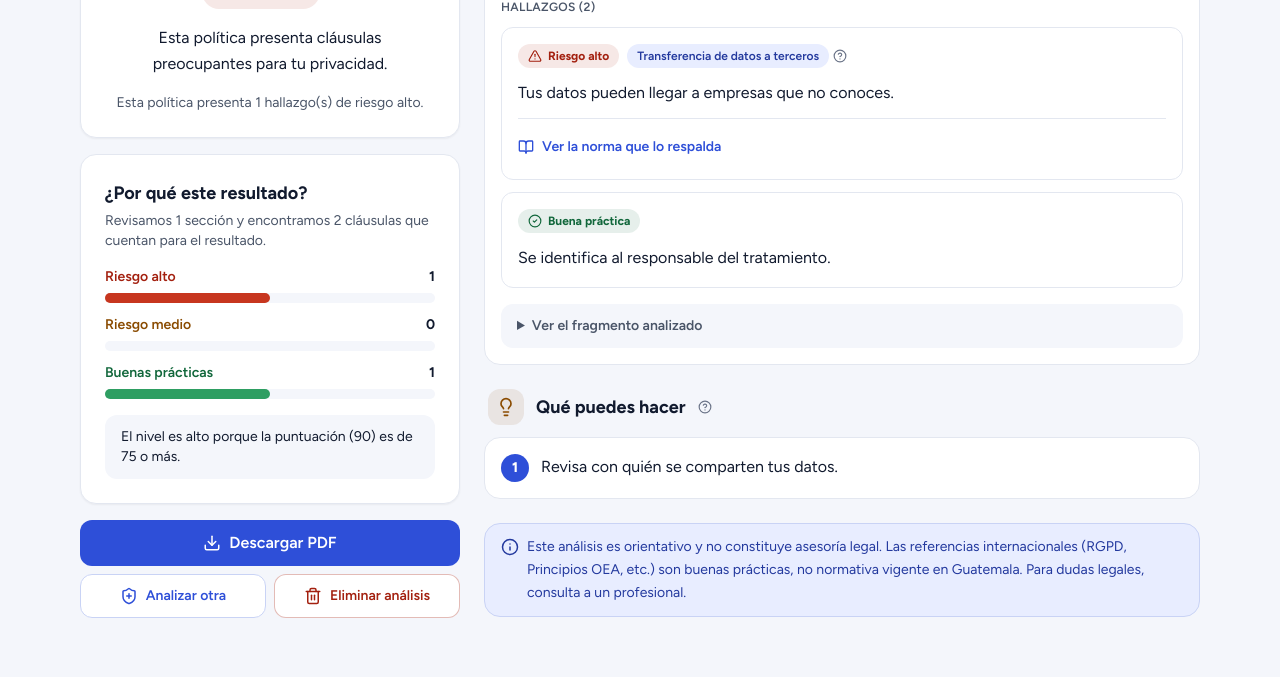
Resultados › explica el límite de descargas del PDF ante un 429
(page scrolled)
Click the button "Descargar PDF": [270, 543] box [80, 520, 460, 565]
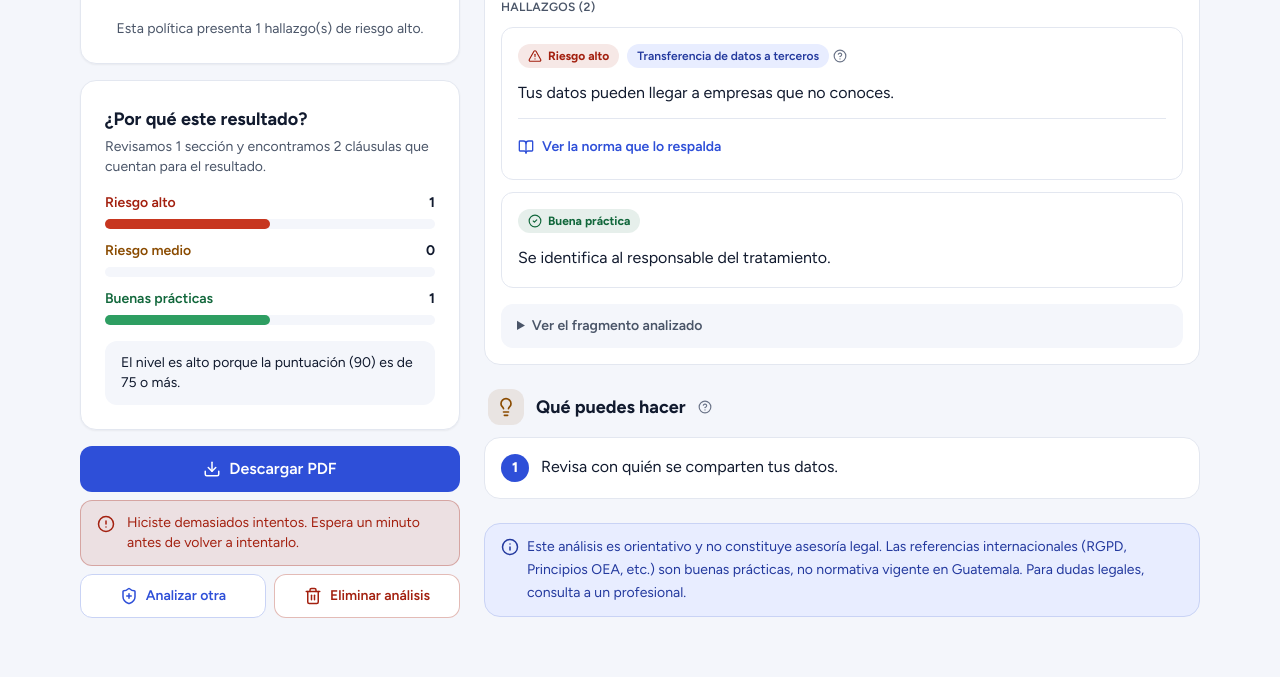
Result: the text "Hiciste demasiados intentos. Espera un minuto antes de volver a intentarlo." is shown at [127, 512, 443, 552]
